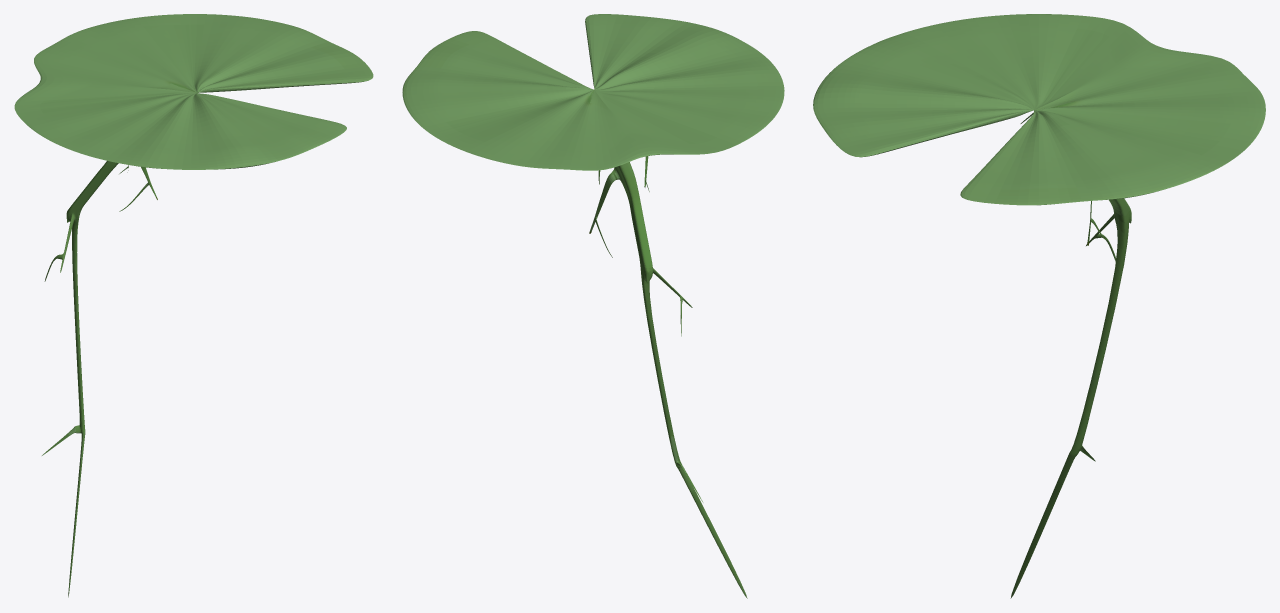
File: lilypad_Lightsmooth_.fbx
The picture shows the model from 3 angles, left to right: view 1: azimuth 30°, elevation 25°; view 2: azimuth 150°, elevation 25°; view 3: azimuth 270°, elevation 25°; orthographic projection. The views are drawn at different scales.
Parts seen in each view (by area): view 1: Cylinder; view 2: Cylinder; view 3: Cylinder.
Boxes of the visible parts, x1,y1,x2,y2 form: Cylinder: [14, 14, 373, 597]; Cylinder: [402, 14, 784, 598]; Cylinder: [813, 14, 1265, 598].
Size of the model in its own units: 1071 by 1509 by 1071.
